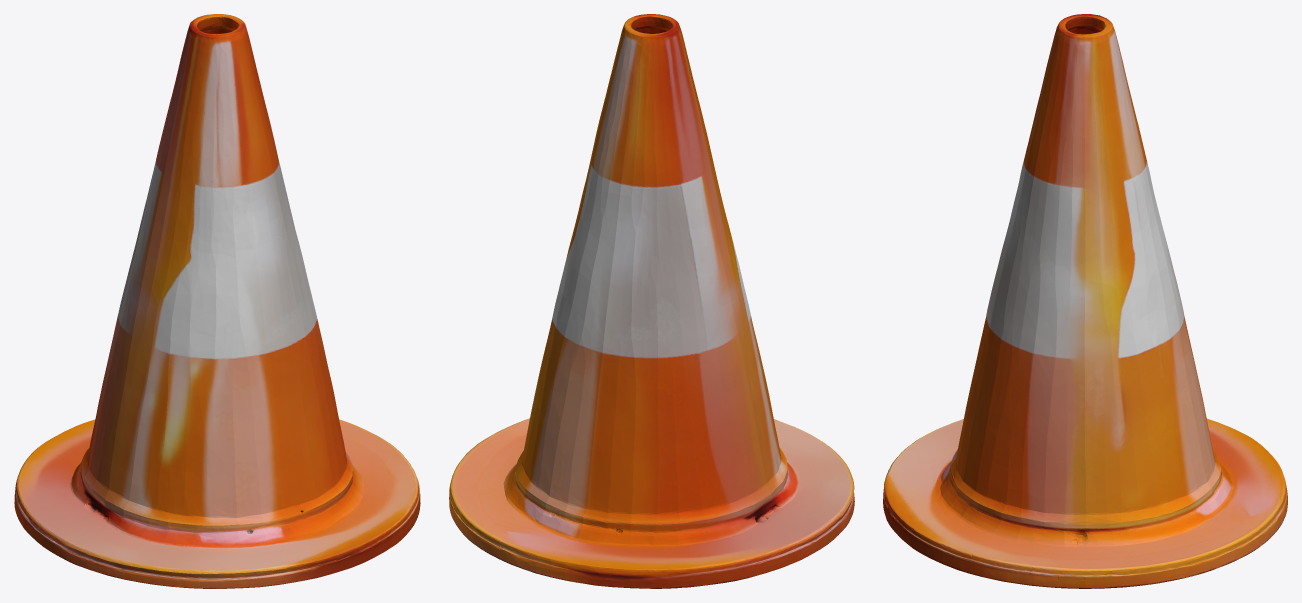
Rendered from traffic_cone_42_20251230_114027_20251230_115350.glb.
3 views of the same model, side by side, from view 1: azimuth 30°, elevation 25°; view 2: azimuth 150°, elevation 25°; view 3: azimuth 270°, elevation 25° (orthographic).
Visible parts, largest first — view 1: world; view 2: world; view 3: world.
Part boxes in pixels (bbox=[...]): world: bbox=[14, 14, 420, 588]; world: bbox=[449, 14, 854, 588]; world: bbox=[883, 14, 1287, 588].
Bounding box in the file's own units: 0.7664 × 1 × 0.7659.
1 material, 1 textured.
